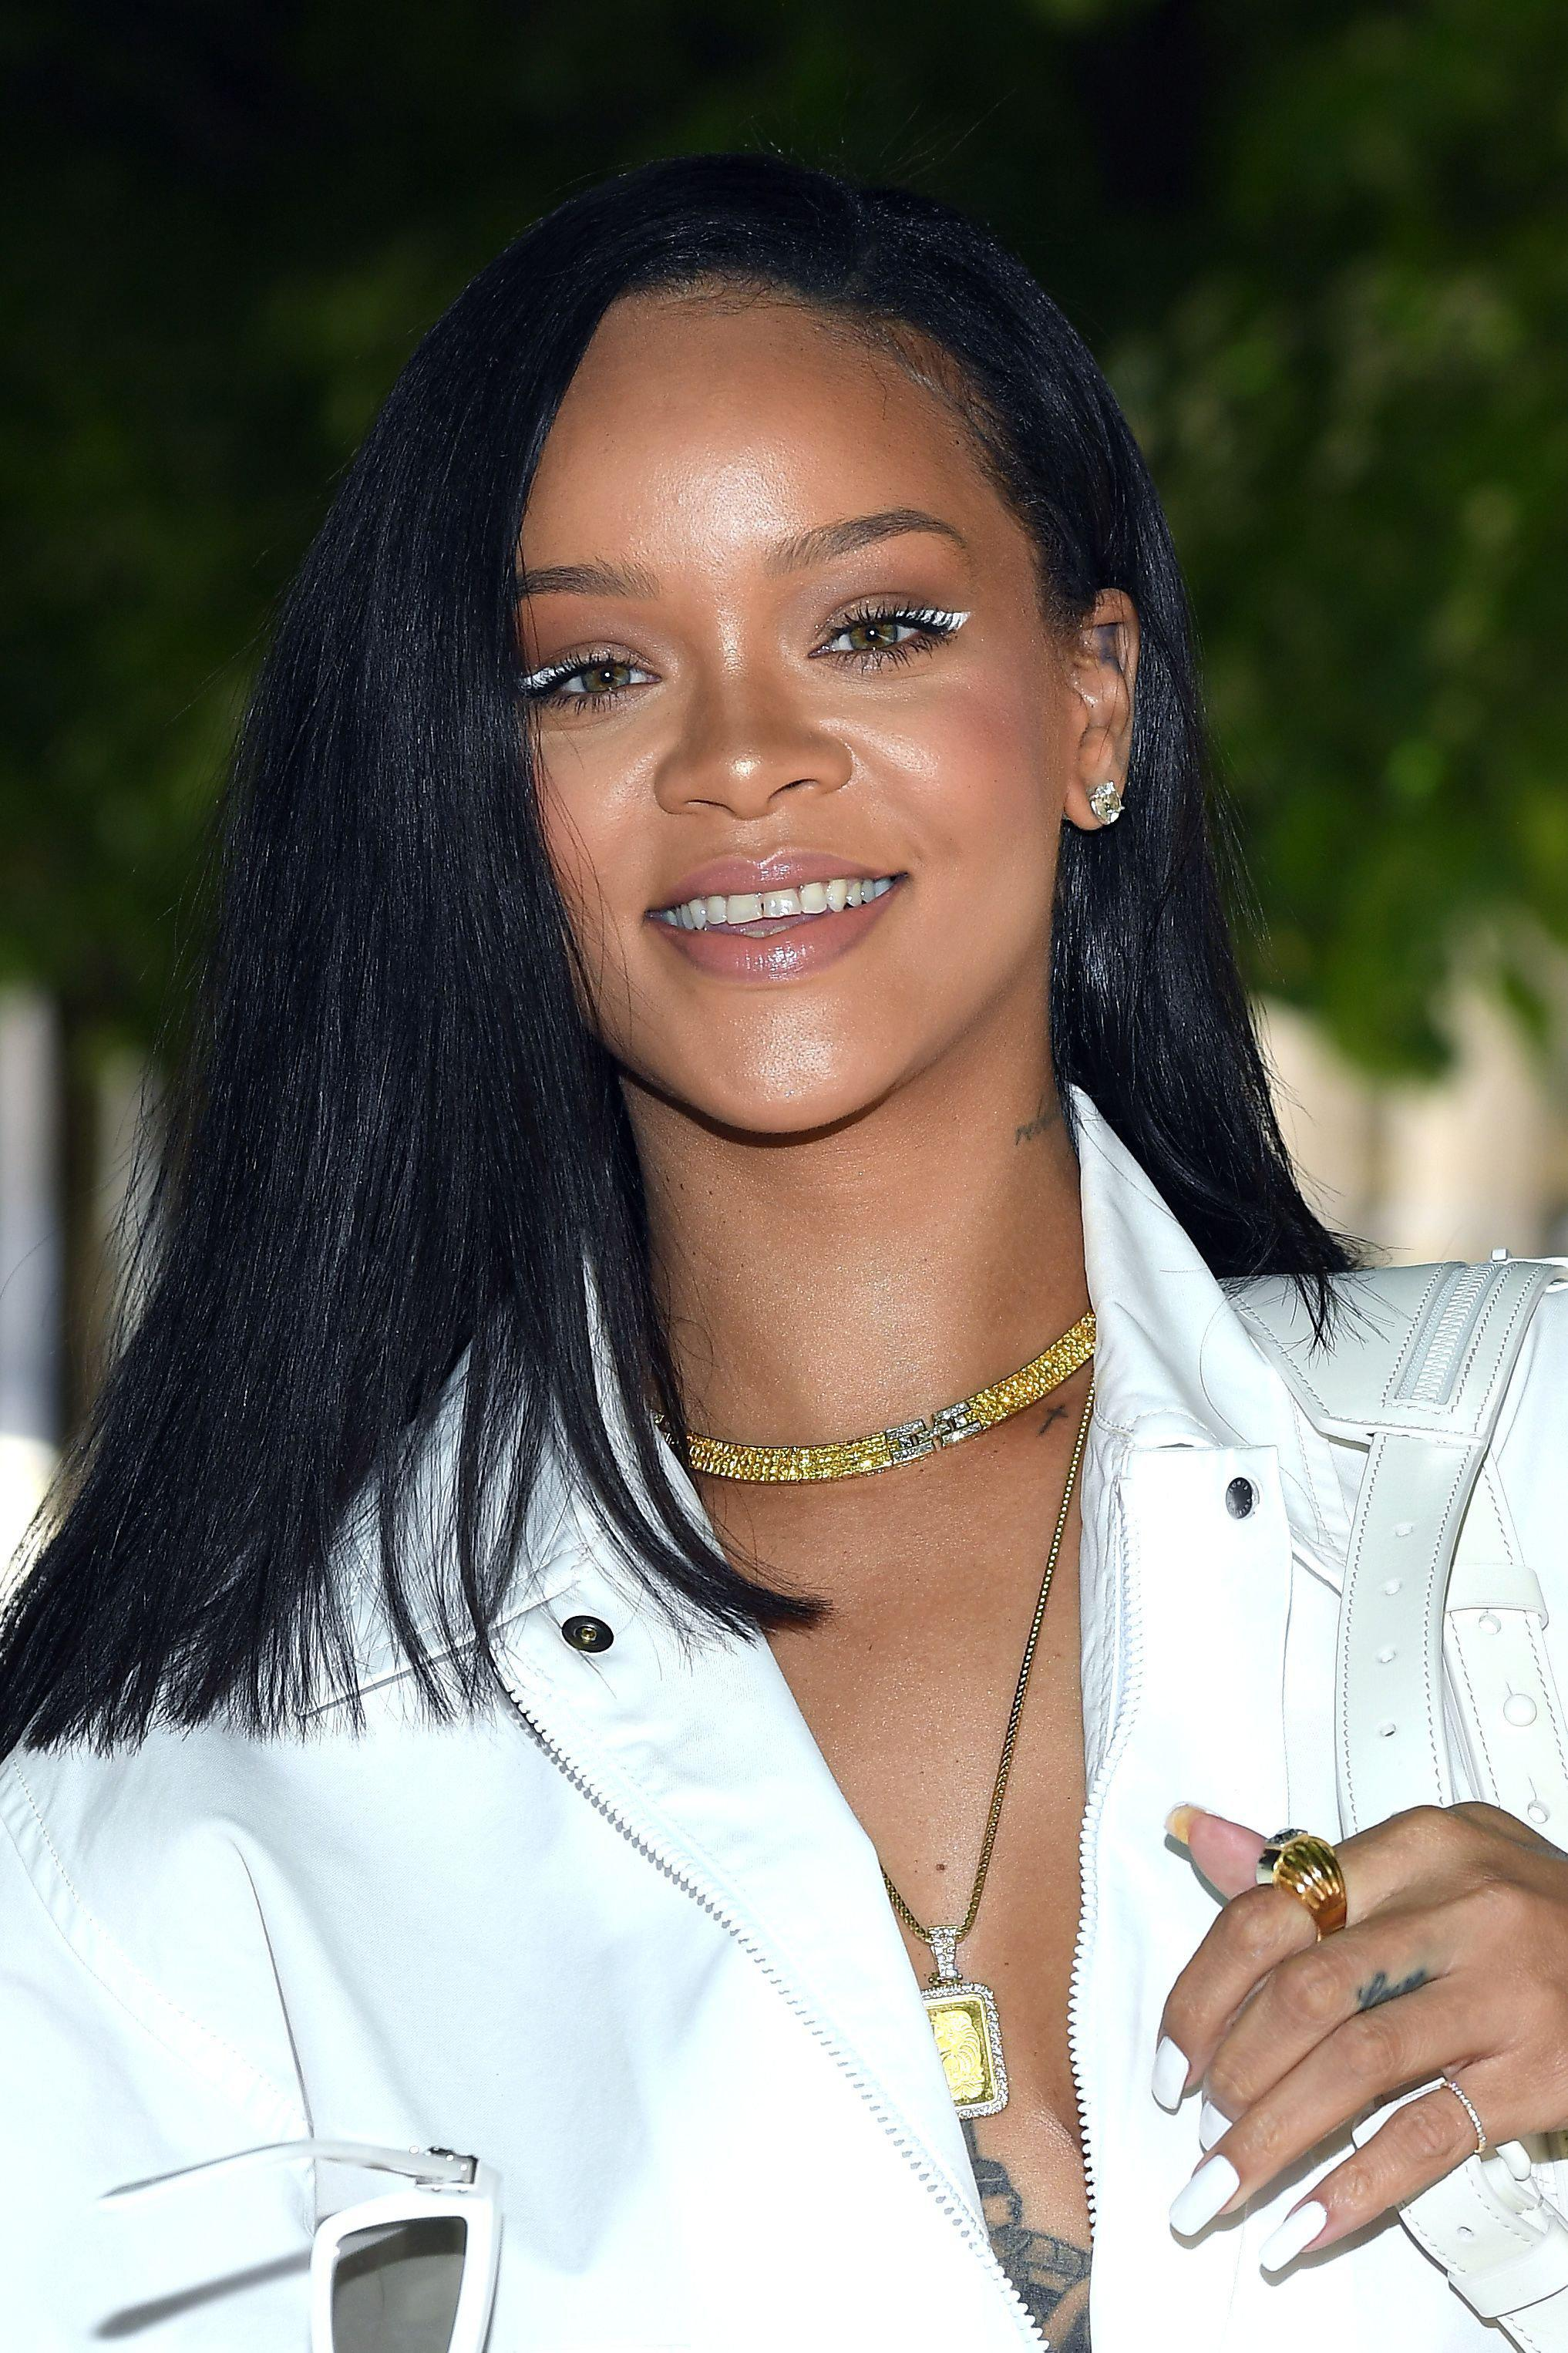Sober: (534, 317, 1050, 1114)
